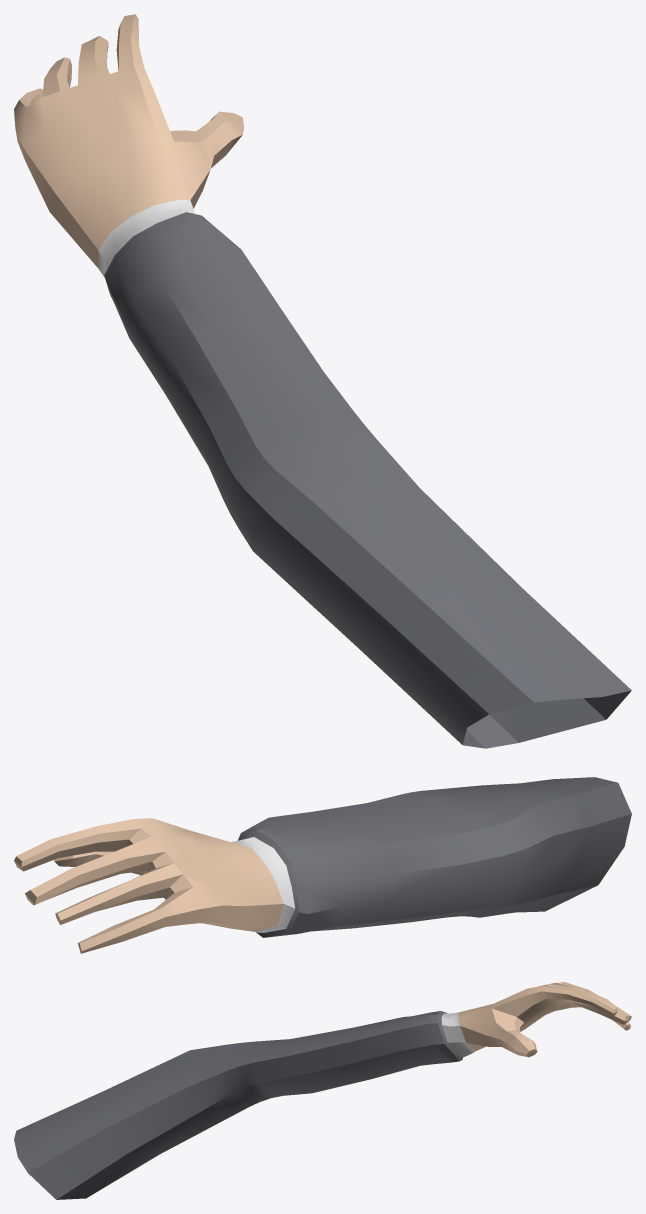
The model's file is 01lefthand.fbx.
3 renders of one model, top to bottom at view 1: azimuth 30°, elevation 25°; view 2: azimuth 150°, elevation 25°; view 3: azimuth 270°, elevation 25°, orthographic. The views are drawn at different scales.
Parts seen in each view (by area): view 1: Plane.002; view 2: Plane.002; view 3: Plane.002.
Boxes of the visible parts, <box> form: Plane.002: <box>14,14,631,748</box>; Plane.002: <box>14,777,631,953</box>; Plane.002: <box>14,982,631,1199</box>.
Bounding box in the file's own units: 38.53 × 54.45 × 139.
